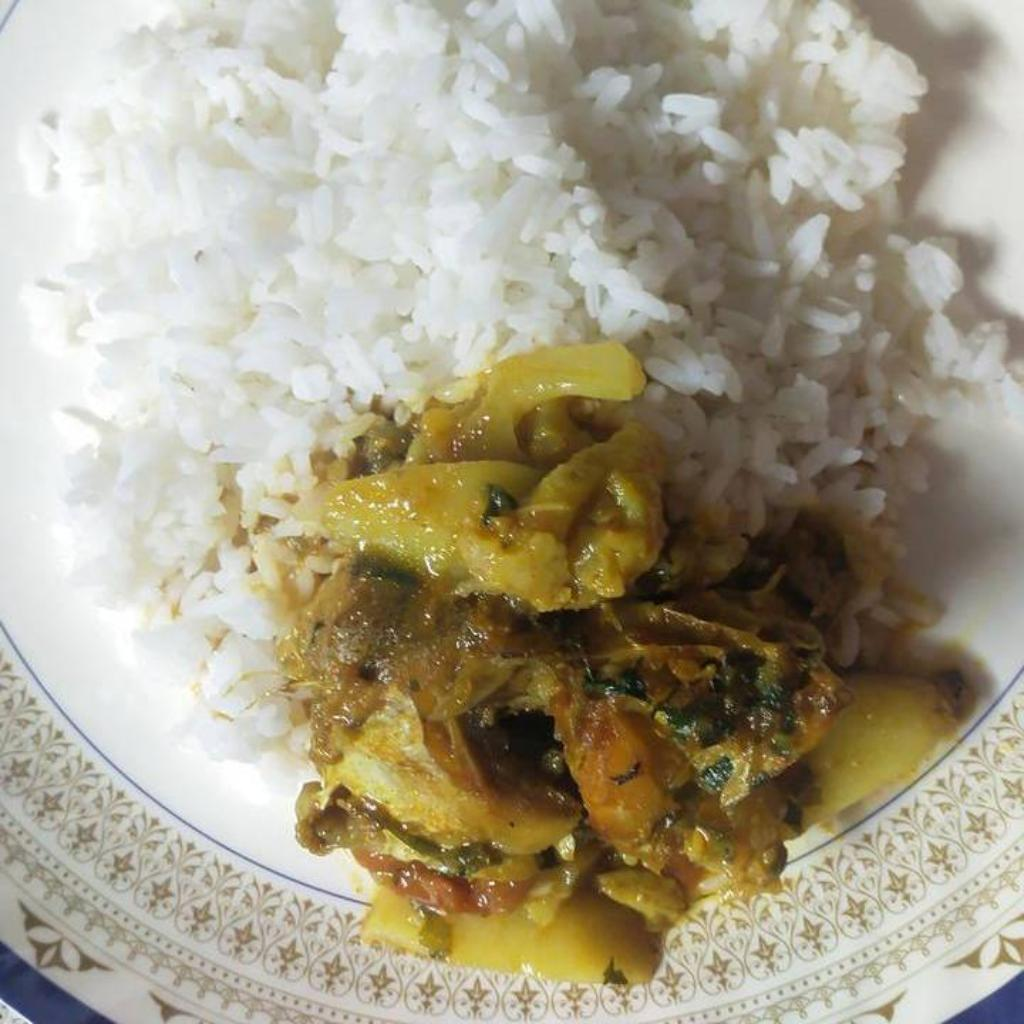fish: (297, 349, 965, 983)
rice: (20, 0, 1023, 770)
